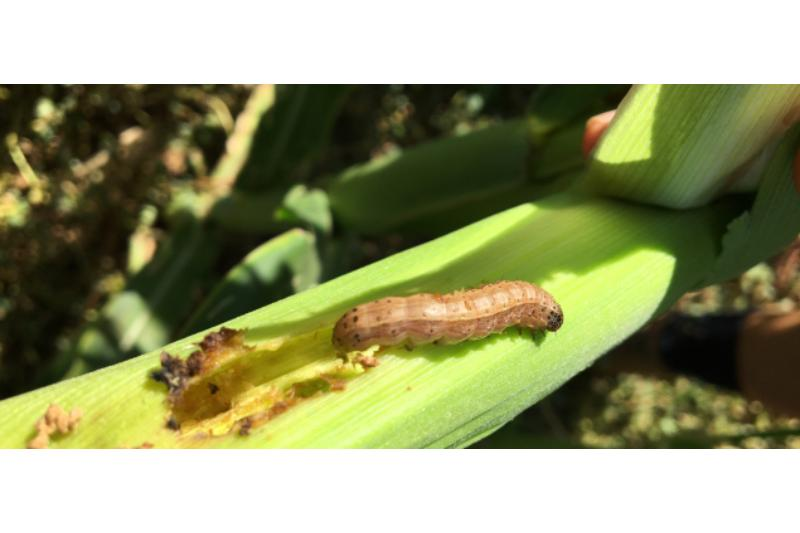fall-armyworm: (334, 282, 565, 355)
